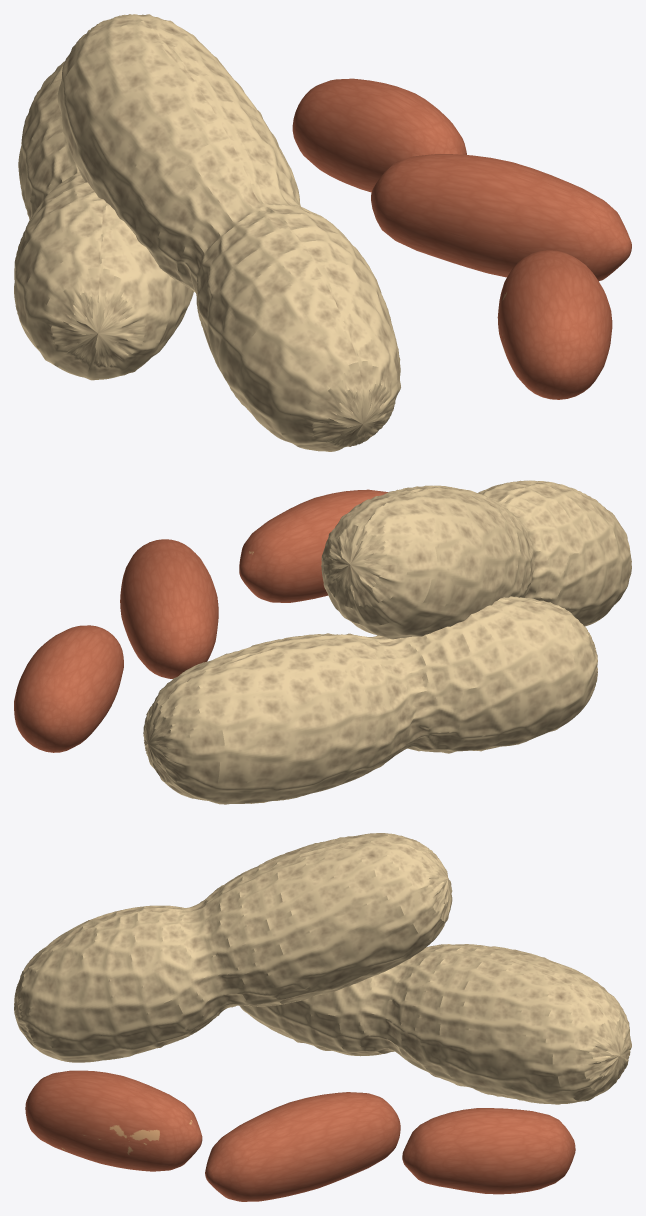
Rendered from Peanuts.fbx.
3 renders of one model, top to bottom at view 1: azimuth 30°, elevation 25°; view 2: azimuth 150°, elevation 25°; view 3: azimuth 270°, elevation 25°, orthographic. The views are drawn at different scales.
Visible parts, largest first — view 1: Sphere.001, Sphere.010, Sphere.002, Sphere.006, Sphere.005; view 2: Sphere.010, Sphere.001, Sphere.002, Sphere.005, Sphere.006; view 3: Sphere.001, Sphere.010, Sphere.002, Sphere.006, Sphere.005.
Part boxes in pixels (x1,y1,x2,y2): Sphere.001: (57, 14, 400, 451); Sphere.010: (14, 61, 193, 380); Sphere.002: (371, 154, 631, 280); Sphere.006: (497, 250, 612, 399); Sphere.005: (292, 78, 466, 192); Sphere.010: (143, 596, 597, 804); Sphere.001: (321, 480, 631, 639); Sphere.002: (120, 539, 218, 678); Sphere.005: (14, 625, 123, 752); Sphere.006: (239, 489, 387, 602); Sphere.001: (14, 833, 452, 1062); Sphere.010: (239, 944, 631, 1104); Sphere.002: (205, 1092, 400, 1201); Sphere.006: (25, 1070, 202, 1171); Sphere.005: (402, 1108, 575, 1194).
Size of the model in its own units: 4.86 by 2.41 by 5.82.
Materials: 3 (3 with a texture image).
